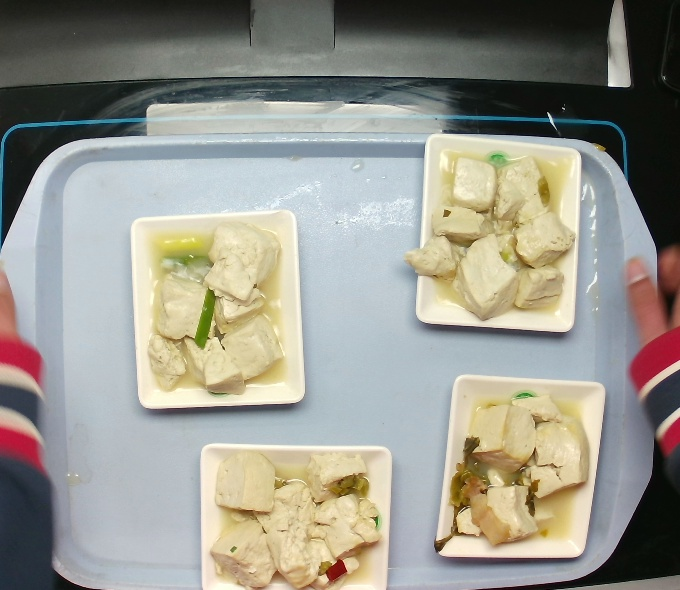wcq-LuDouFu: (408, 149, 578, 322), (141, 222, 293, 401), (202, 447, 387, 590), (430, 391, 590, 556)
